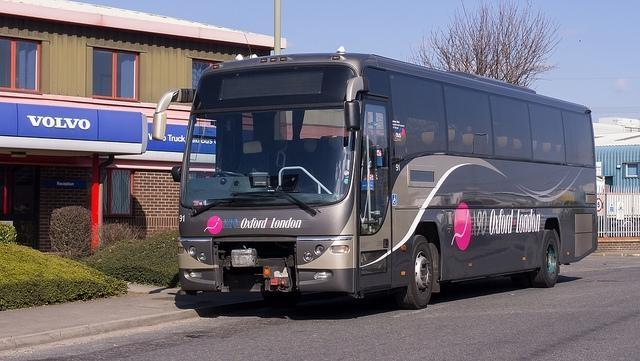bus: (166, 47, 600, 311)
